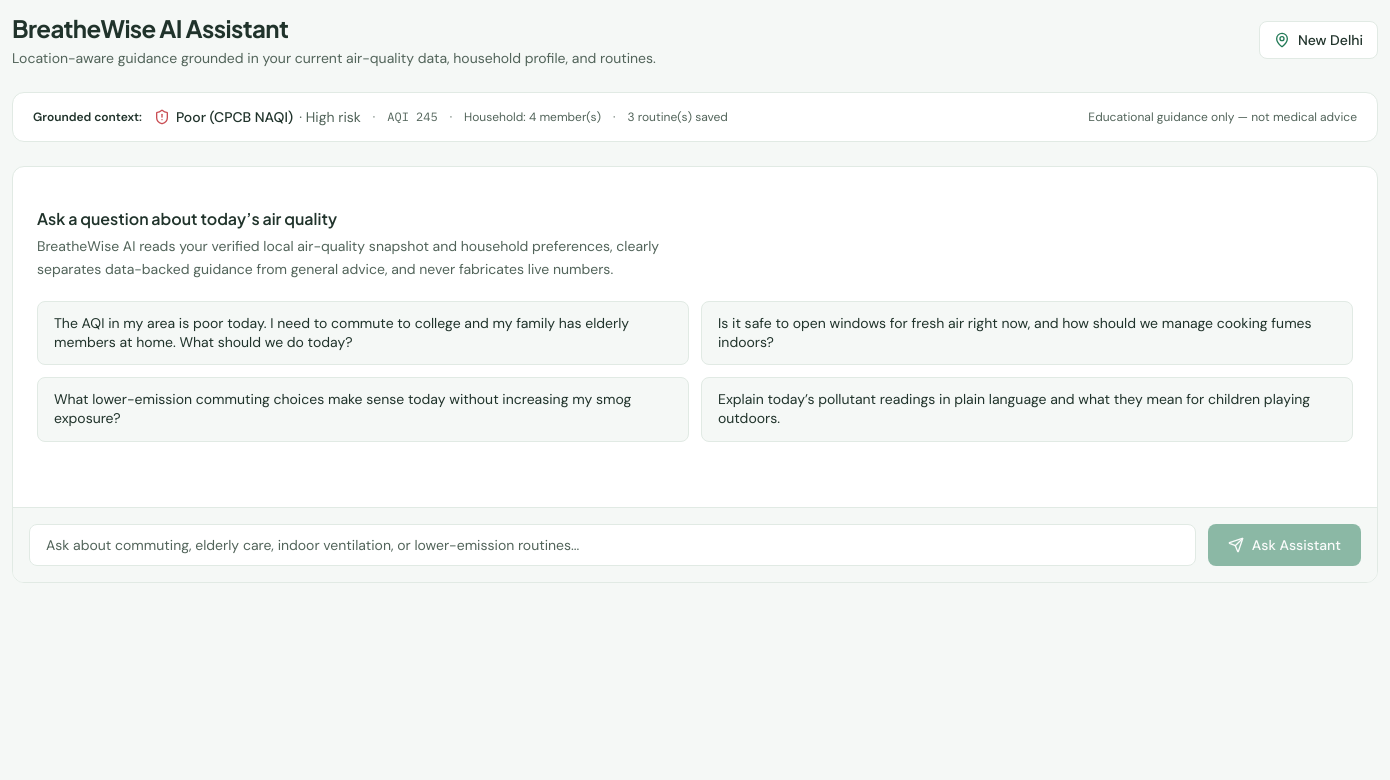
Test case: Page-level behavioral, accessibility, state, and error-boundary tests › AssistantPage cancels an in-flight AI request cleanly via Cancel button
Type "Should children play outdoors?" into the field named "ask breathewise ai a question".
click(612, 545); type("Should children play outdoors?")  # box top-left (29, 524), bottom-right (1196, 566)
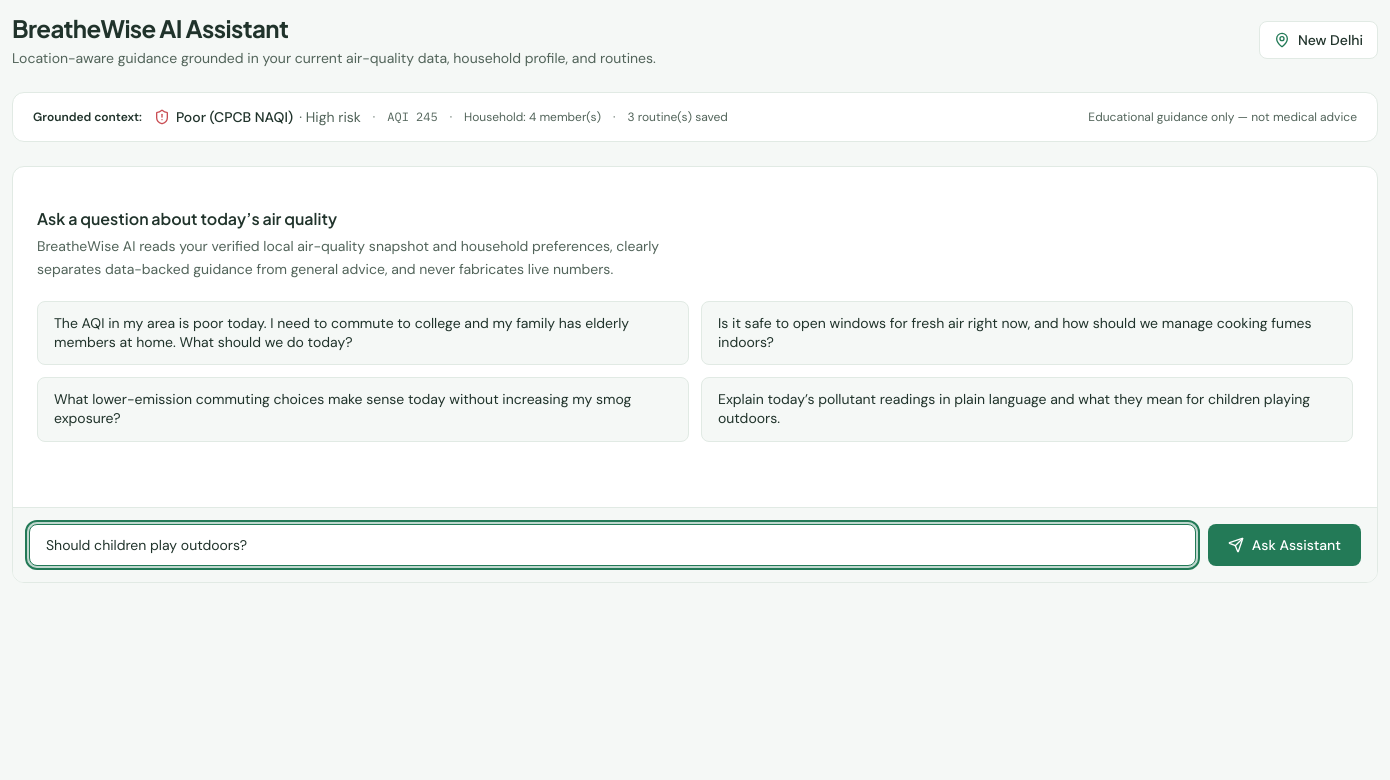
Click the button "Ask Assistant".
click(1284, 545)  # box top-left (1208, 524), bottom-right (1361, 566)
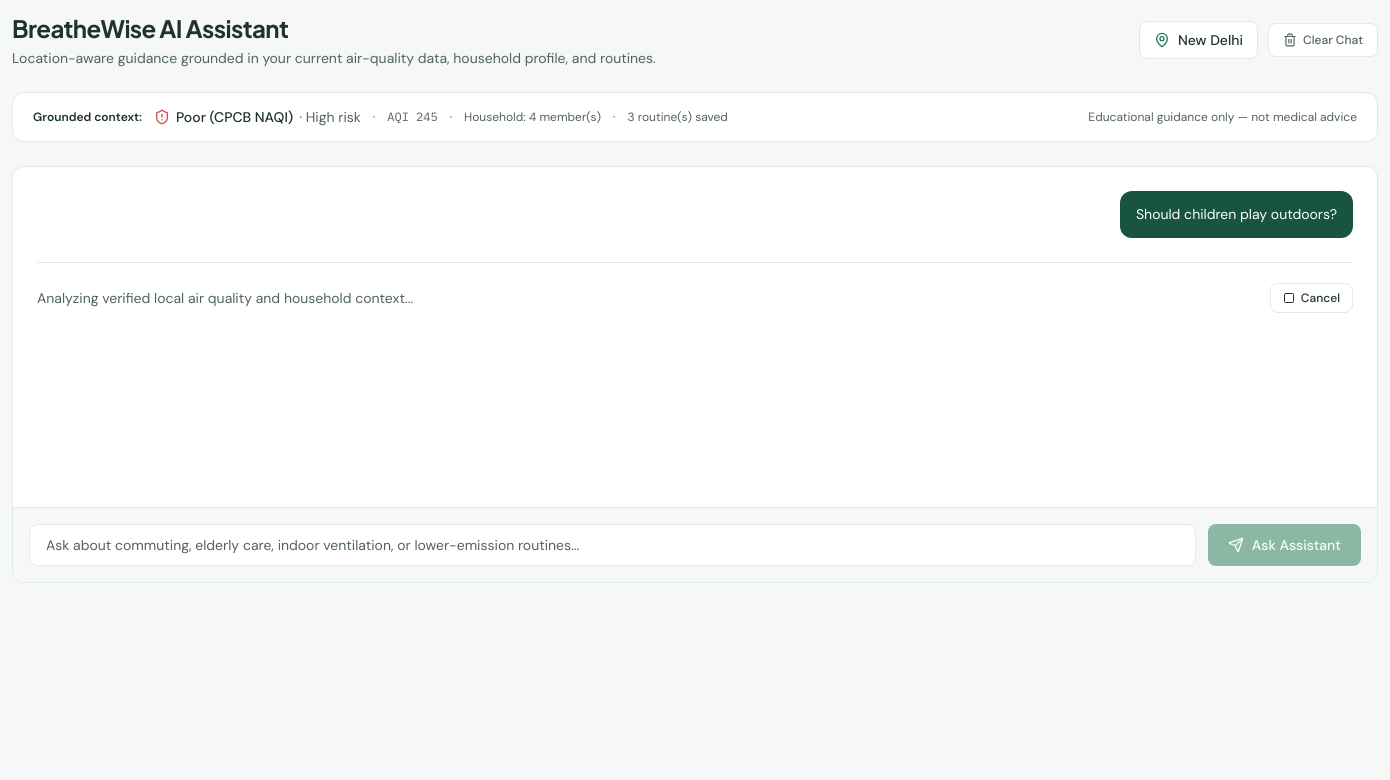
Expected: the message shows "Analyzing verified local air quality", top-left (37, 289), bottom-right (413, 307)
Click the button "Cancel".
click(1311, 298)  # box top-left (1270, 283), bottom-right (1353, 313)
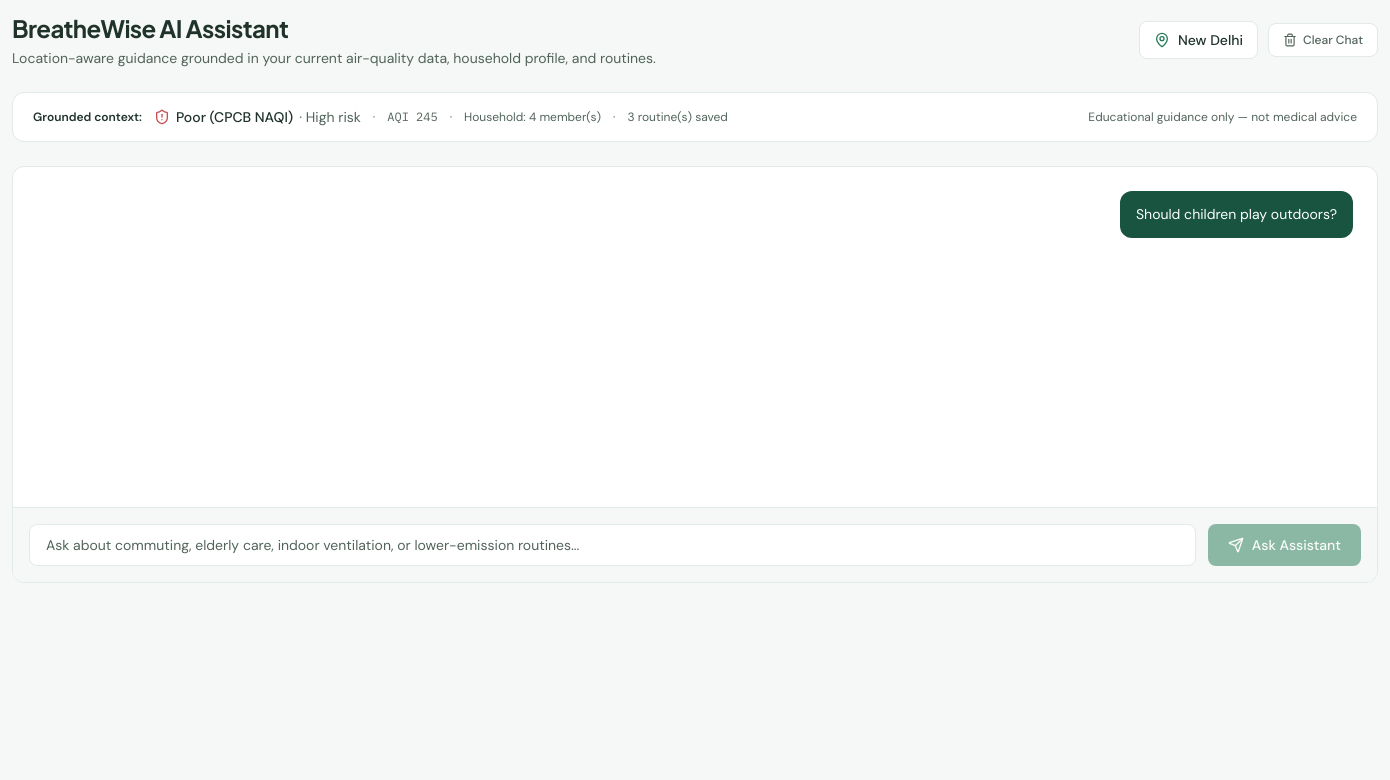
Expected: the message "Analyzing verified local air quality and household context... Cancel" is gone
